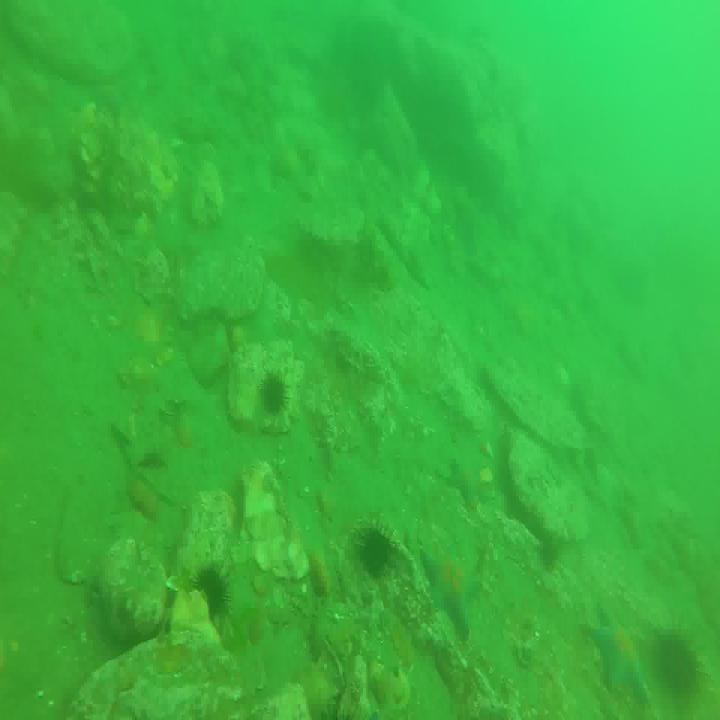echinus: (648, 615, 702, 707), (193, 561, 231, 620), (354, 522, 393, 577), (260, 369, 288, 422)
starfish: (590, 602, 653, 707), (421, 535, 479, 636), (450, 452, 490, 511)
